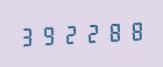eight: (102, 18, 122, 44), (123, 17, 143, 43)
nine: (38, 22, 58, 48)
three: (17, 23, 37, 49)
two: (60, 21, 80, 47), (81, 20, 101, 45)
